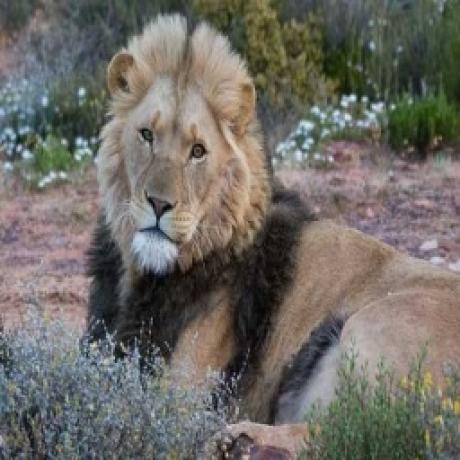Lion: (84, 9, 460, 423)
